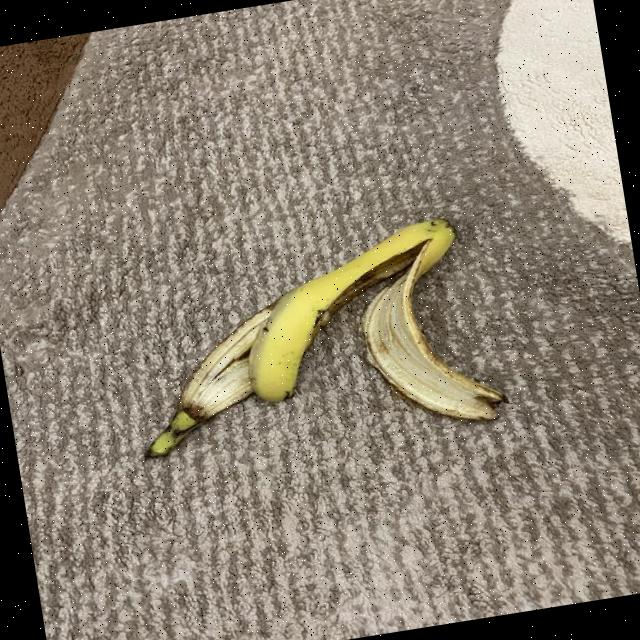banana-peel: (115, 210, 507, 470), (227, 213, 478, 408), (348, 233, 511, 440), (124, 303, 295, 460)
